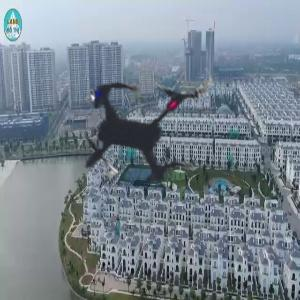drone: (3, 5, 270, 272)
